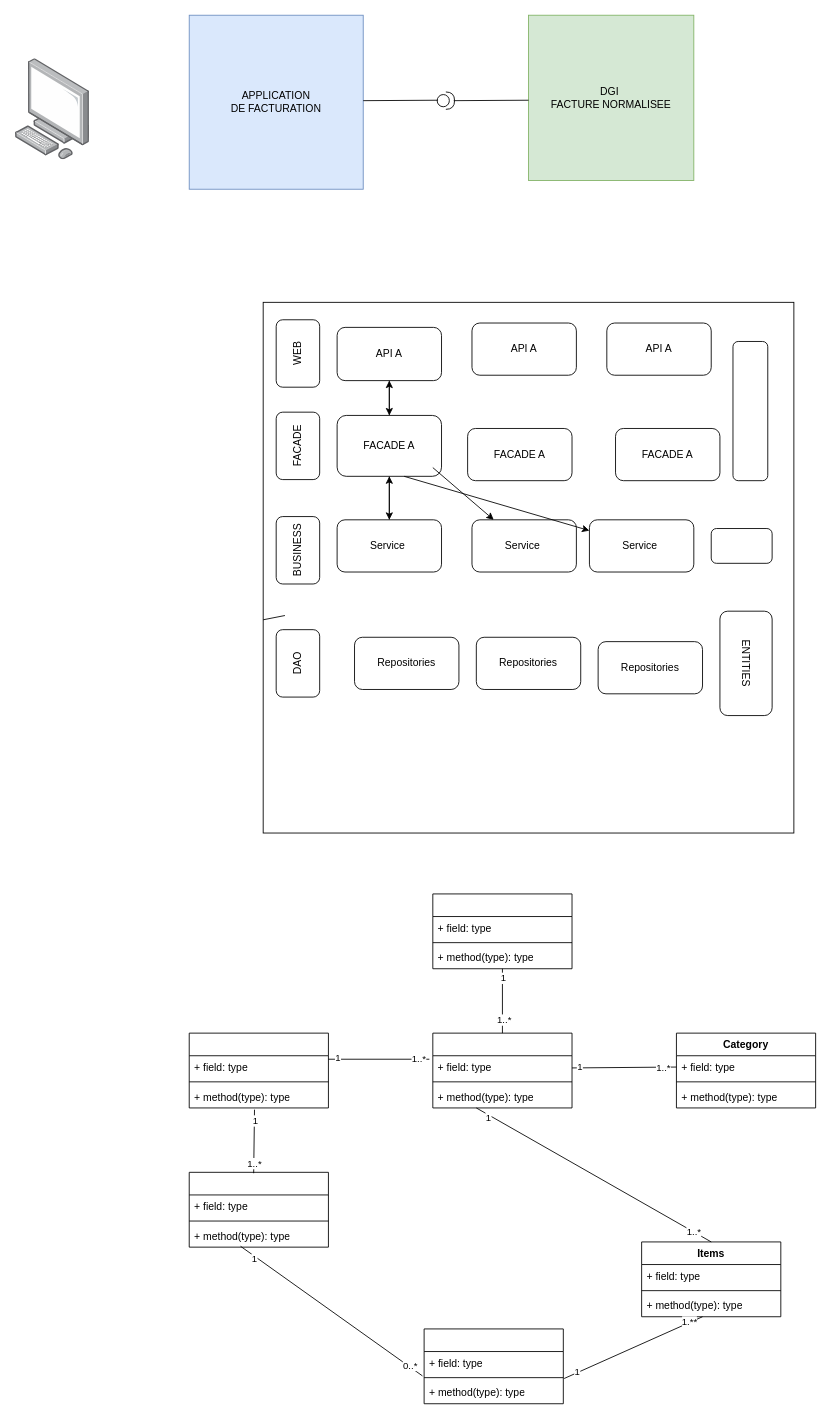
Some shapes in this 831 by 1422 pixel diagram are drawn without their labels. The box of each missing label's shape, as (x1, y1, x2, y2) in pixels:
Company: (188, 1032, 328, 1108)
DTO: (732, 341, 768, 481)
Invoice: (423, 1328, 563, 1404)
MAP: (710, 528, 772, 563)
PointOfSale: (188, 1171, 328, 1247)
Product: (432, 1032, 572, 1108)
TaxGroup: (432, 893, 572, 969)
